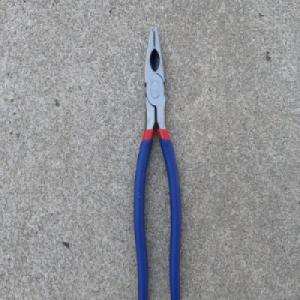Pliers: (131, 23, 183, 300)
